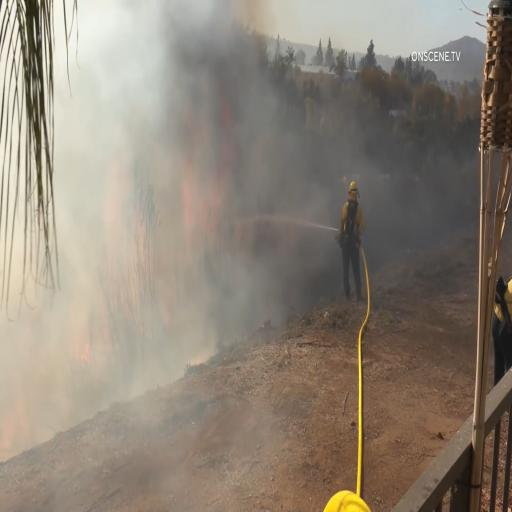smoke: (111, 8, 241, 186), (3, 379, 125, 512), (248, 95, 374, 191)
